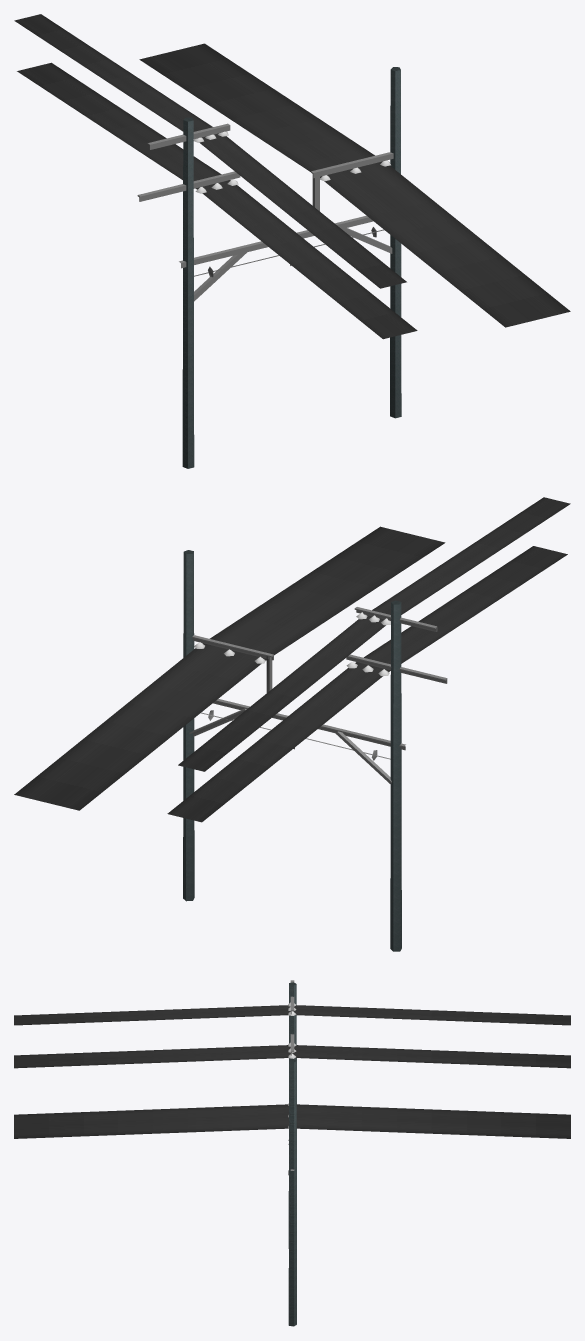
Rendered from K_KASENCHU01.glb.
3 views of the same model, one above another, from view 1: azimuth 30°, elevation 25°; view 2: azimuth 150°, elevation 25°; view 3: azimuth 270°, elevation 25° (orthographic). The views are drawn at different scales.
Parts seen in each view (by area): view 1: obj10; view 2: obj10; view 3: obj10.
Part boxes in pixels (box(x1,y1,x2,y2)): obj10: box(14, 14, 570, 468); obj10: box(14, 497, 570, 951); obj10: box(14, 980, 570, 1326).
Size of the model in its own units: 25.11 by 31.34 by 60.
3 materials, 3 textured.
